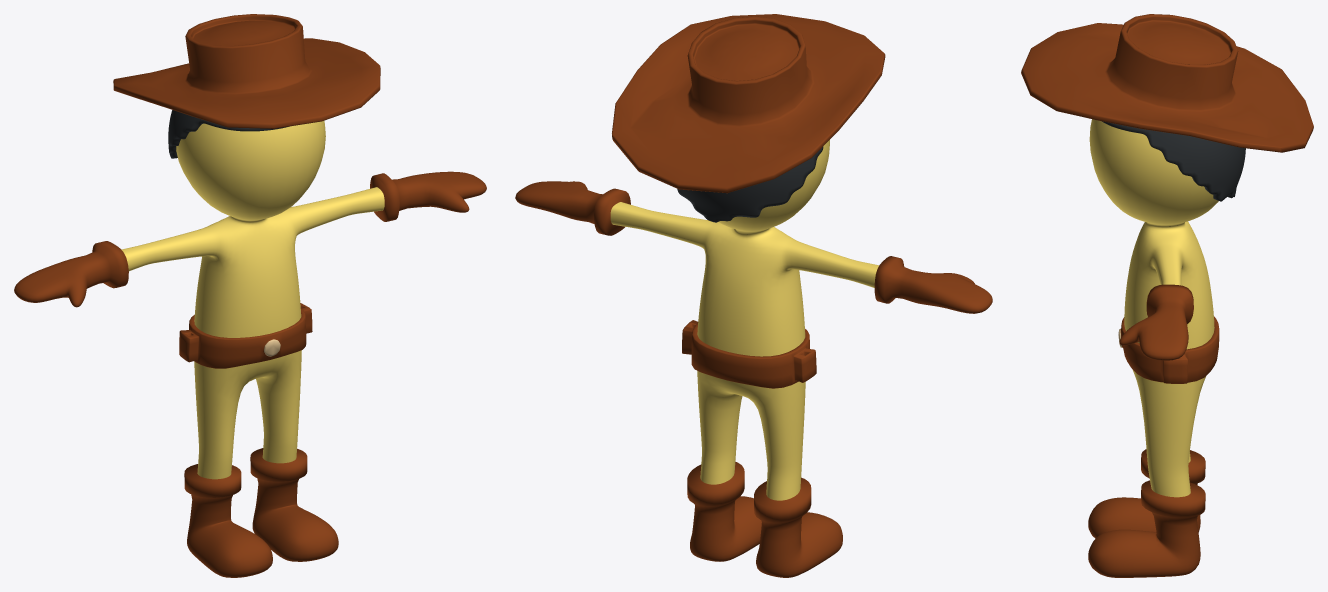
File: 001character_lowpoly.fbx
3 views of the same model, side by side, from view 1: azimuth 30°, elevation 25°; view 2: azimuth 150°, elevation 25°; view 3: azimuth 270°, elevation 25° (orthographic).
Parts seen in each view (by area): view 1: 001_merged char; view 2: 001_merged char; view 3: 001_merged char.
Boxes of the visible parts, x1,y1,x2,y2 form: 001_merged char: (14, 14, 486, 577); 001_merged char: (515, 14, 992, 577); 001_merged char: (1021, 14, 1313, 577).
Size of the model in its own units: 200 by 213 by 108.
